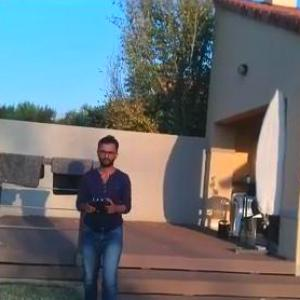follow: (71, 127, 138, 299)
